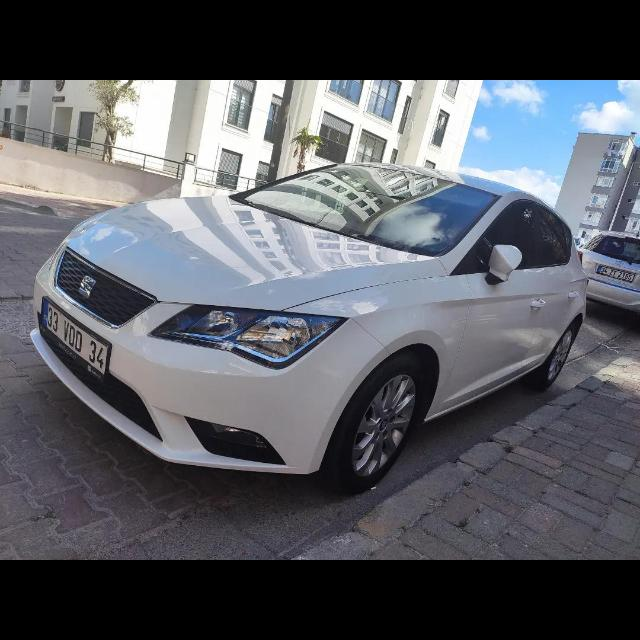Plaka: (42, 298, 108, 374), (596, 266, 634, 282)
